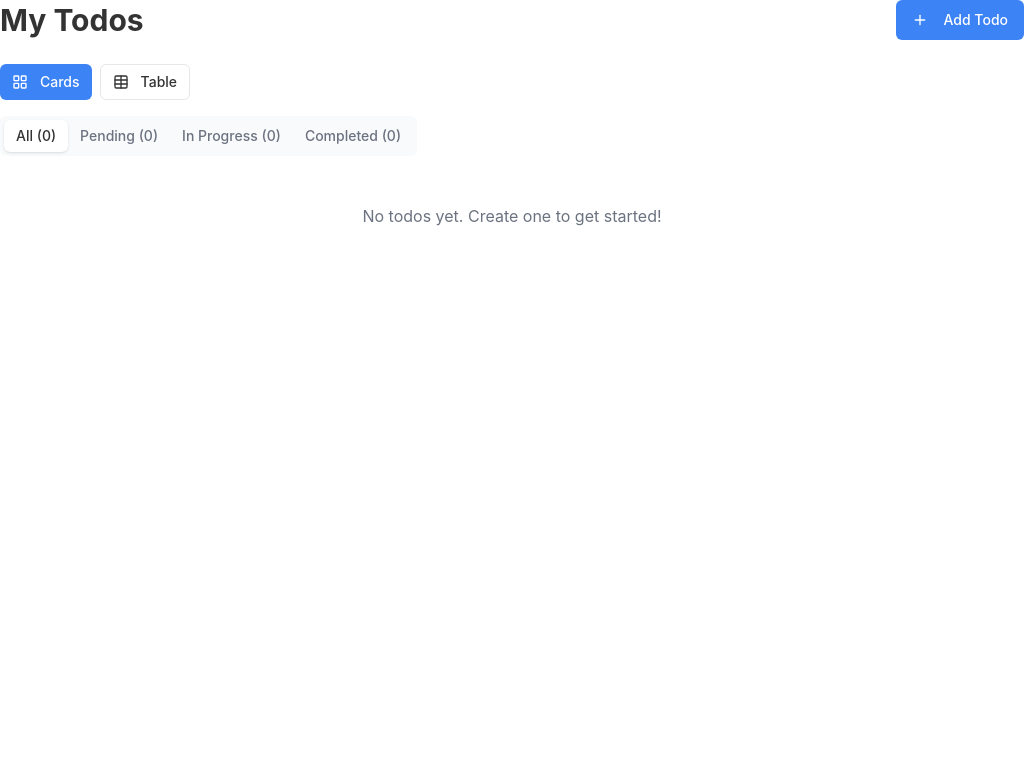
Test: TodoList › create dialog validates required title field
Open dialog
Click the button "Add Todo": [960, 20] box [896,0,1023,40]
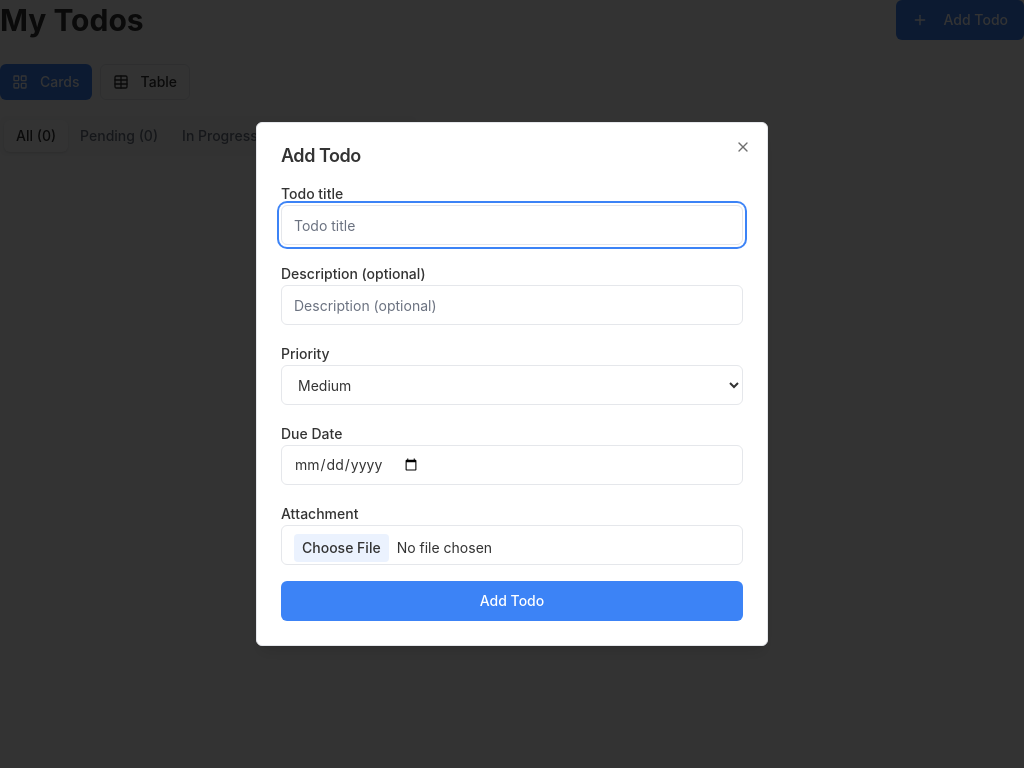
Submit without title — find the submit button (not the DialogTitle)
Click the button "Add Todo": [512, 601] box [281,581,743,621]
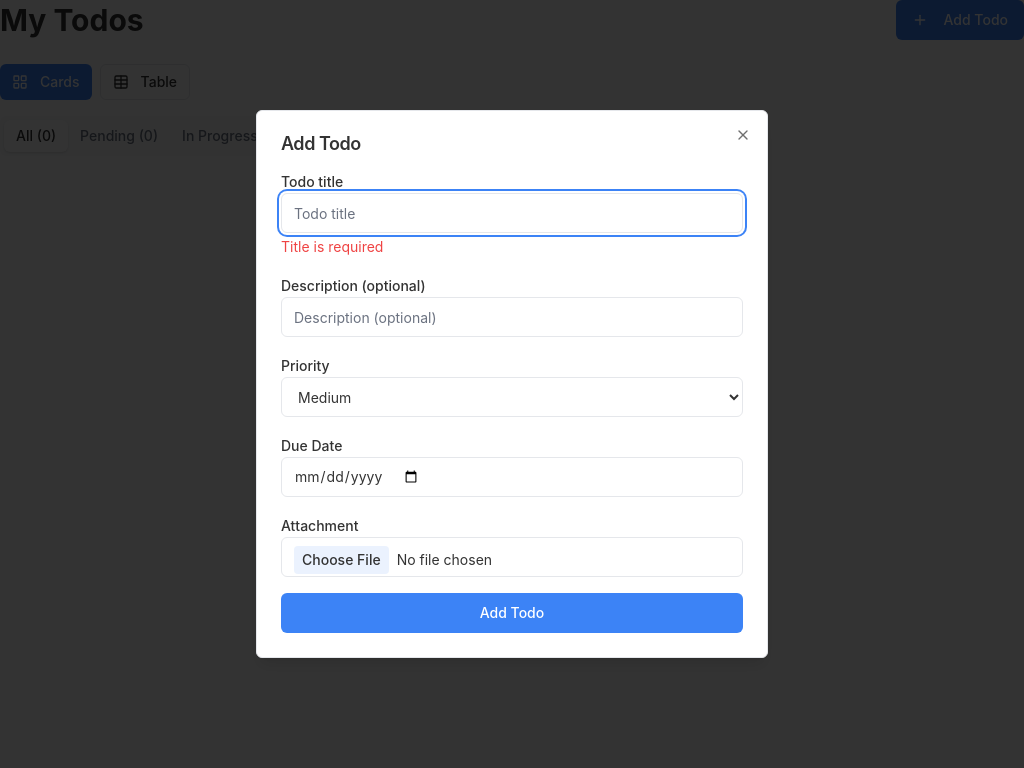
Check: the text "Title is required" is shown, box [281,238,383,255]
